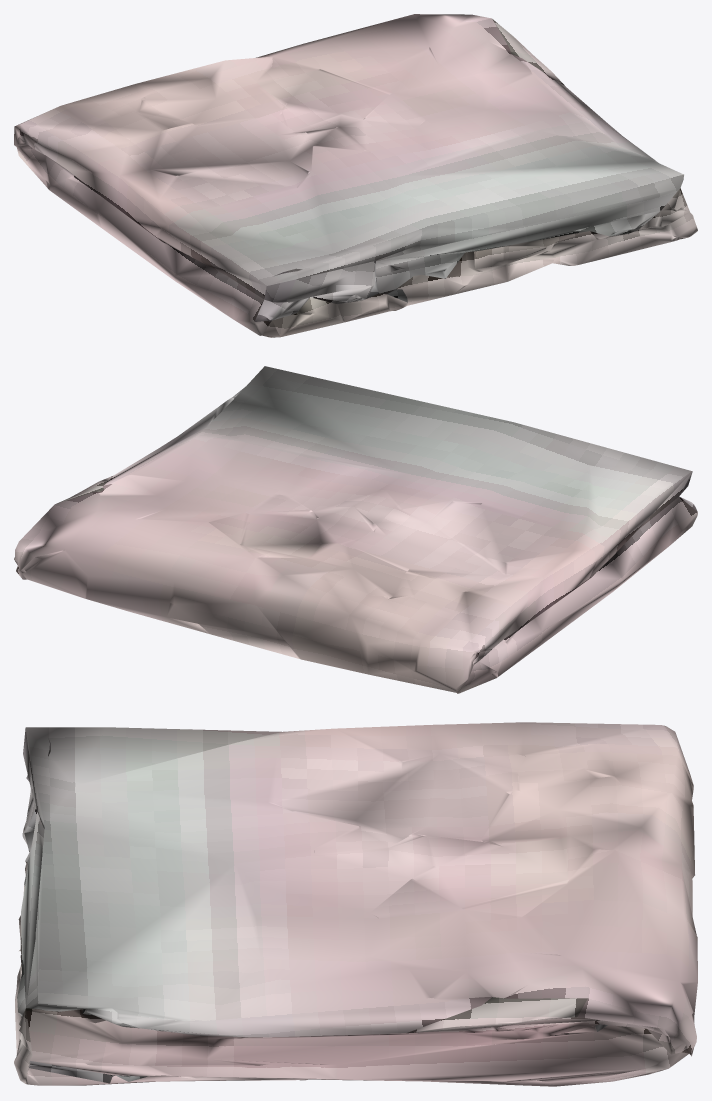
The model's file is Threshold_Textured_Damask_Bath_Towel_Pink-low.glb.
The picture shows the model from 3 angles, top to bottom: view 1: azimuth 30°, elevation 25°; view 2: azimuth 150°, elevation 25°; view 3: azimuth 270°, elevation 25°; orthographic projection. The views are drawn at different scales.
Parts seen in each view (by area): view 1: Threshold_Textured_Damask_Bath_Towel_Pink; view 2: Threshold_Textured_Damask_Bath_Towel_Pink; view 3: Threshold_Textured_Damask_Bath_Towel_Pink.
Boxes of the visible parts, box(x1,y1,x2,y2) form: Threshold_Textured_Damask_Bath_Towel_Pink: box(14, 14, 697, 337); Threshold_Textured_Damask_Bath_Towel_Pink: box(14, 366, 697, 693); Threshold_Textured_Damask_Bath_Towel_Pink: box(14, 722, 697, 1086).
Size of the model in its own units: 0.3559 by 0.0565 by 0.3374.
Materials: 1 (1 with a texture image).
